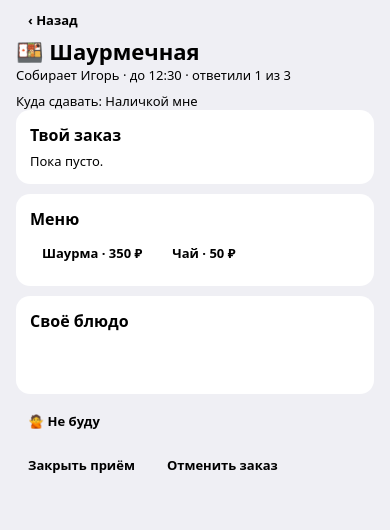
Scenario: OrderScreen — админ у чужого заказа › «Отменить заказ» спрашивает про отмену, а не про закрытие
Click the button "Отменить заказ" at (222, 466), box [155,448,290,484]
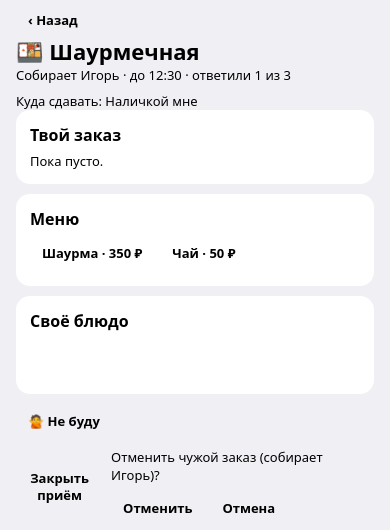
Expected: the text "Отменить чужой заказ (собирает Игорь)?" is shown, [111,448,323,484]
